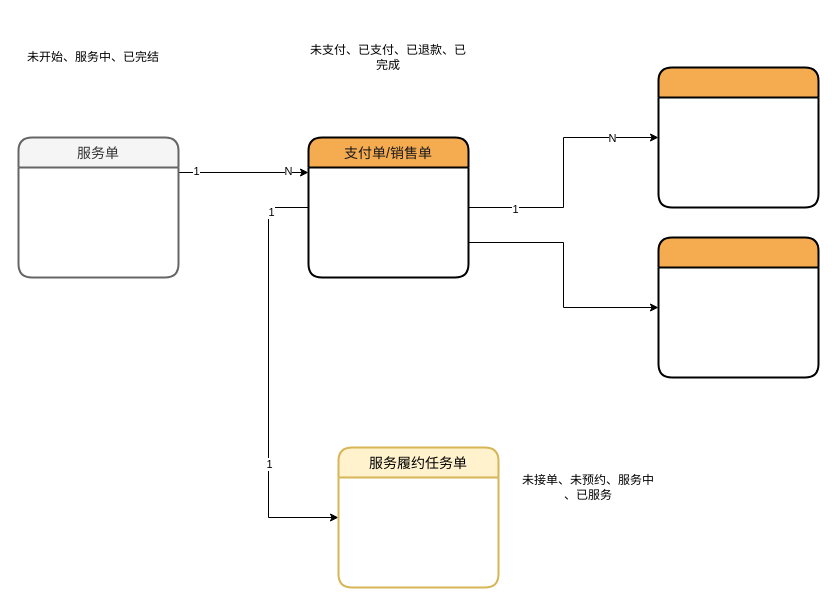
The diagram is 836 pixels wide and 605 high, and some of its shapes have lost their labels. Here are the shapes that lost their labels. From the top down, the centre of each, then its label:
At [738,137]: "销售商品明细".
At [738,307]: "销售服务明细".
